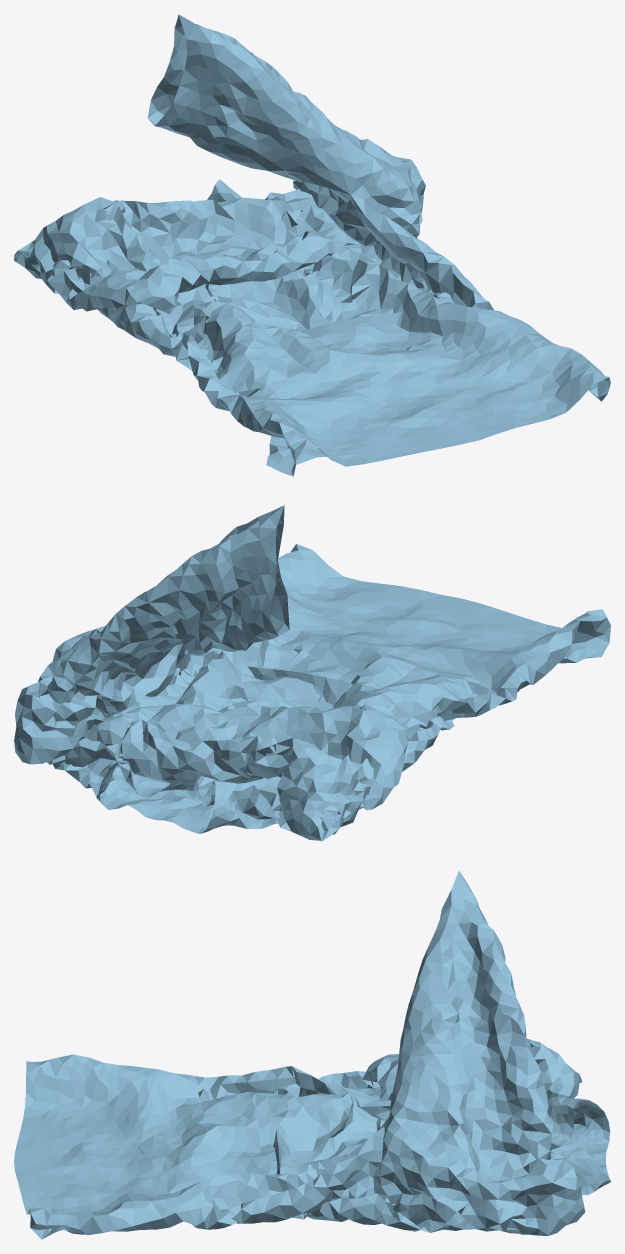
Rendered from frame_15.glb.
3 views of the same model, one above another, from view 1: azimuth 30°, elevation 25°; view 2: azimuth 150°, elevation 25°; view 3: azimuth 270°, elevation 25° (orthographic). The views are drawn at different scales.
Visible parts, largest first — view 1: frame_15.obj; view 2: frame_15.obj; view 3: frame_15.obj.
Part boxes in pixels (x1,y1,x2,y2): frame_15.obj: (14, 14, 610, 476); frame_15.obj: (14, 505, 610, 841); frame_15.obj: (14, 870, 610, 1239).
Size of the model in its own units: 0.9408 by 0.7215 by 1.43.
